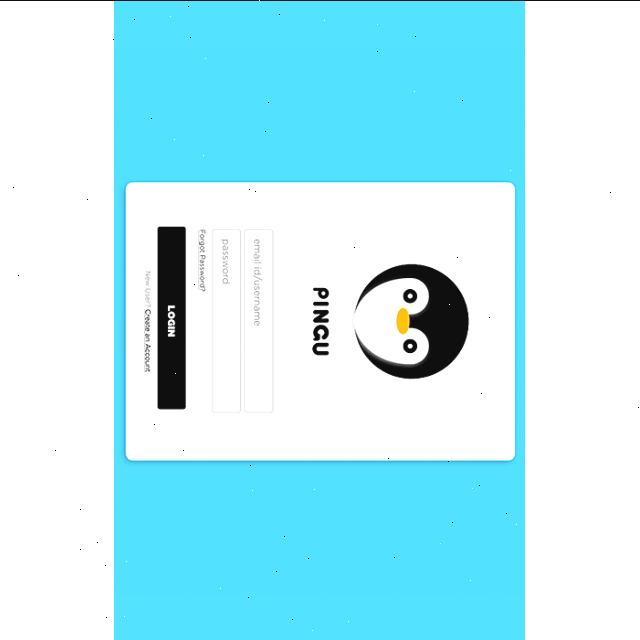QLabel: (144, 308, 152, 372), (199, 228, 207, 290), (167, 303, 177, 337), (144, 268, 152, 306)
VBtn: (158, 224, 188, 410)
VCard: (124, 176, 518, 462)
VImg: (301, 255, 475, 383)
VTextField: (244, 227, 276, 413), (212, 228, 242, 412)
